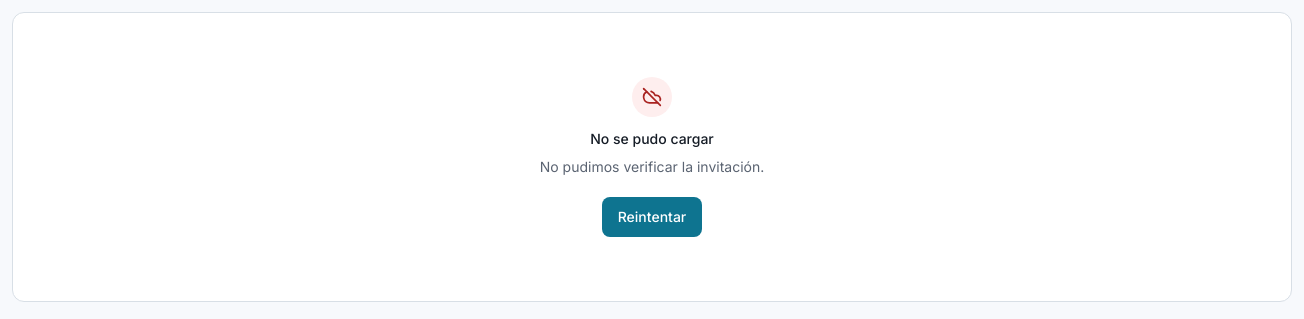
Scenario: AcceptInvitationForm › un fallo al verificar la invitación se puede reintentar y el error desaparece al cargar
The image size is (1304, 319).
Expected: the message shows "No pudimos verificar la invitación.", [540, 158, 764, 175]
Click the button "Reintentar" at {"x": 652, "y": 217}, box [602, 197, 702, 237]
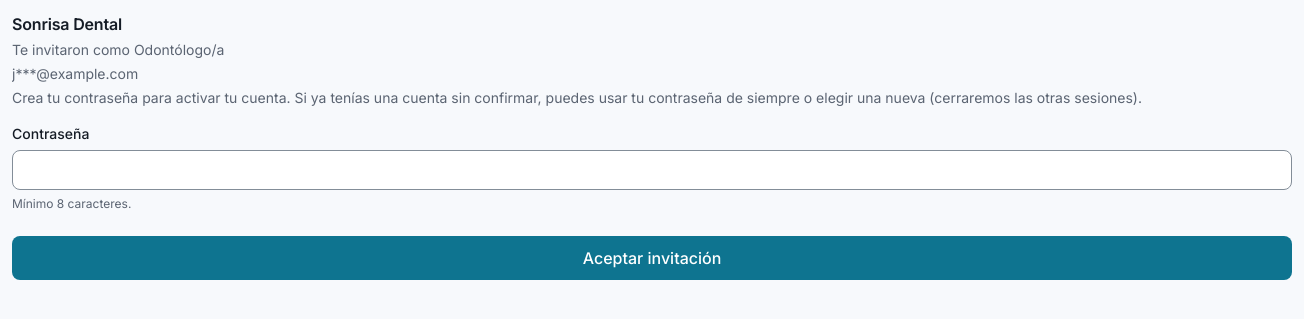
Result: the text "Sonrisa Dental" is shown at [12, 14, 122, 34]
Result: the message "No se pudo cargar No pudimos verificar la invitación. Reintentar" is gone
